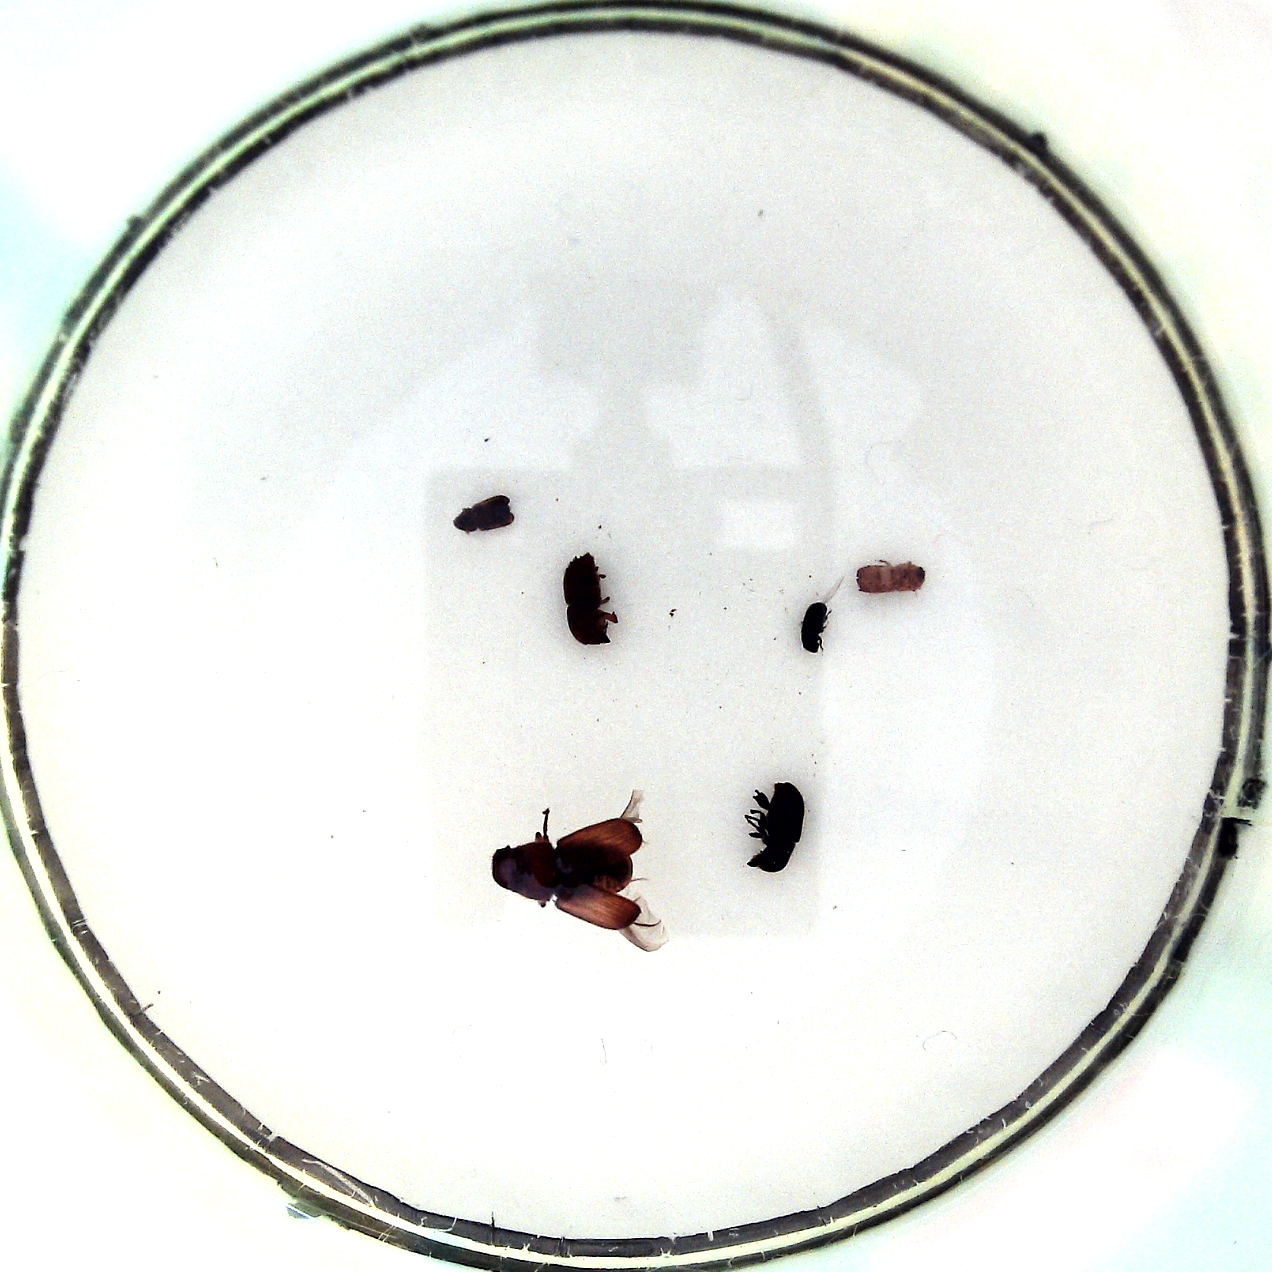Leconte: (492, 818, 642, 931)
acuminatus: (801, 603, 828, 653)
armandi: (747, 780, 805, 872)
coleoptera: (453, 494, 515, 531), (855, 560, 925, 593)
linnaeus: (561, 551, 610, 646)
